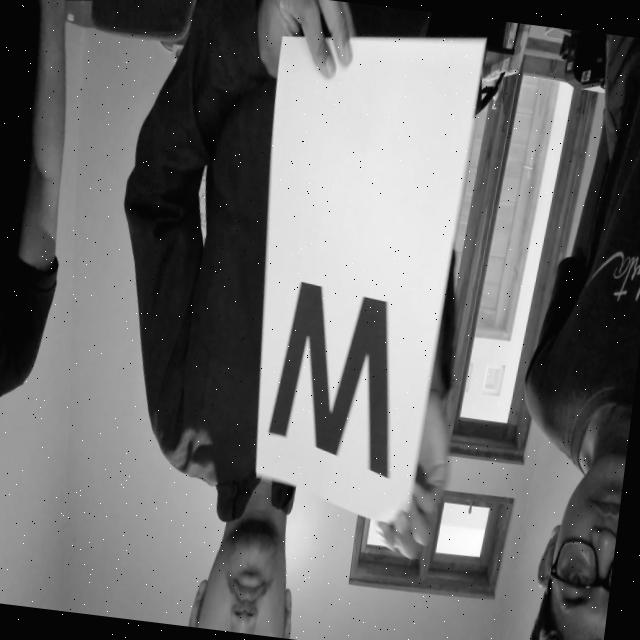w: (238, 246, 425, 498)
